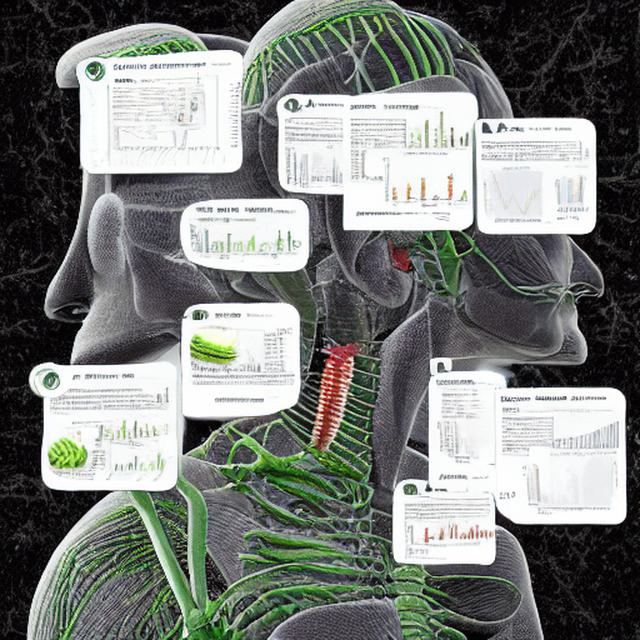Graph: (370, 151, 472, 210), (477, 164, 554, 222), (542, 408, 620, 459), (188, 217, 257, 259), (103, 445, 169, 485), (106, 123, 171, 160), (442, 514, 493, 545)
